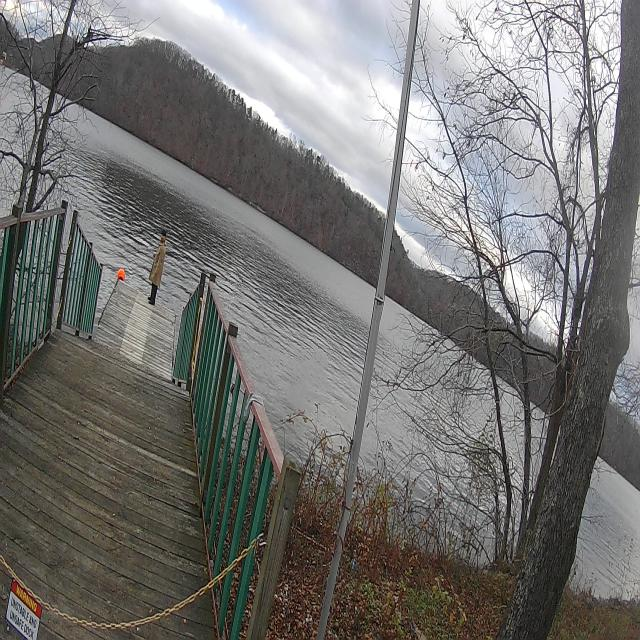Buoy: (116, 264, 126, 283)
